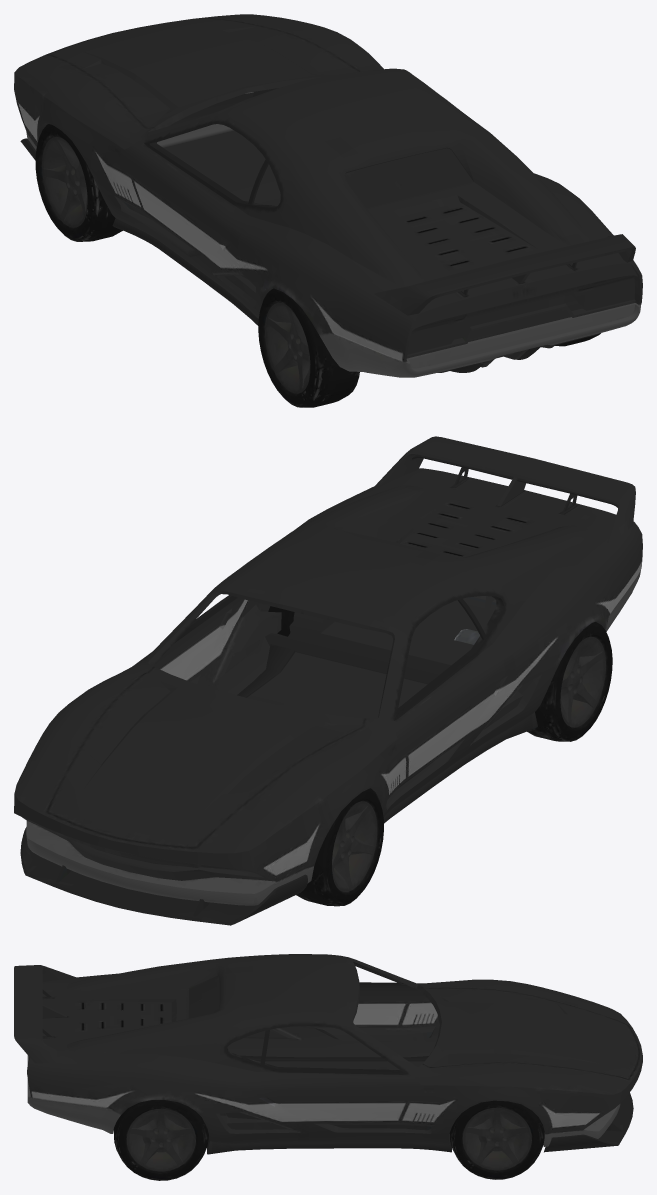
Rendered from car_body.compressed.glb.
The picture shows the model from 3 angles, top to bottom: view 1: azimuth 30°, elevation 25°; view 2: azimuth 150°, elevation 25°; view 3: azimuth 270°, elevation 25°; orthographic projection. The views are drawn at different scales.
Parts seen in each view (by area): view 1: cb_car_export_cb_car_0; view 2: cb_car_export_cb_car_0; view 3: cb_car_export_cb_car_0.
Part boxes in pixels (<box>): cb_car_export_cb_car_0: <box>14,14,642,407</box>; cb_car_export_cb_car_0: <box>14,436,642,925</box>; cb_car_export_cb_car_0: <box>14,954,642,1180</box>.
Size of the model in its own units: 223 by 141 by 541.
Materials: 1 (1 with a texture image).
